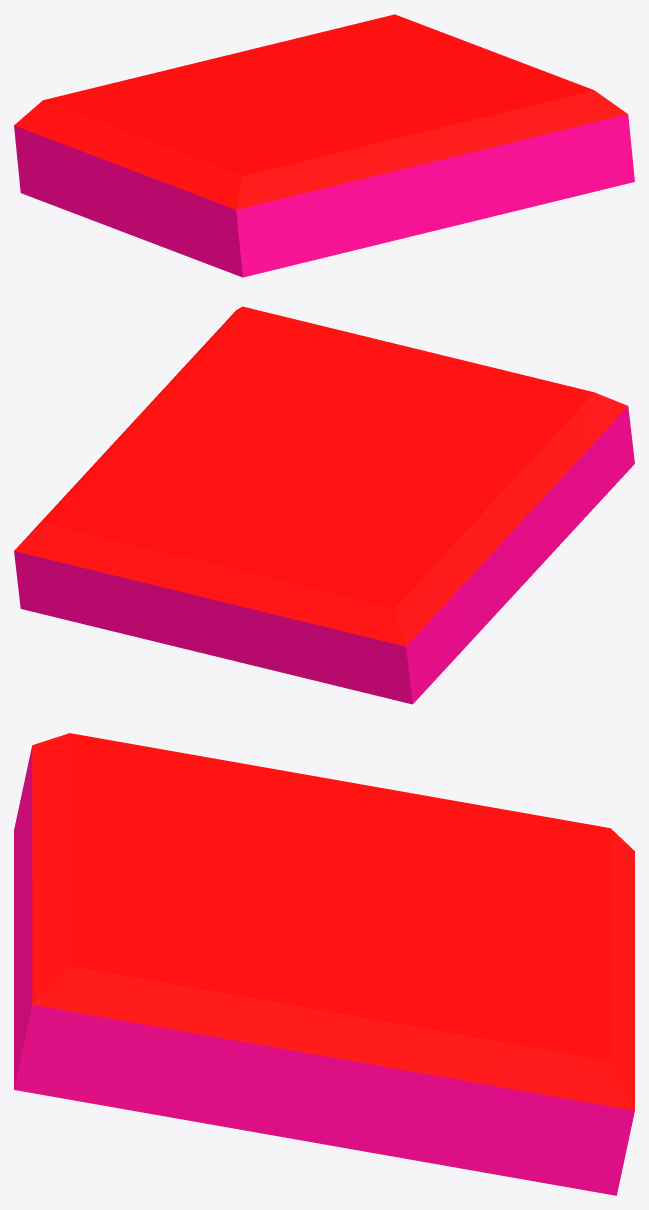
Rendered from ButtonF.glb.
3 renders of one model, top to bottom at view 1: azimuth 30°, elevation 25°; view 2: azimuth 150°, elevation 25°; view 3: azimuth 270°, elevation 25°, orthographic. The views are drawn at different scales.
Visible parts, largest first — view 1: ButtonF; view 2: ButtonF; view 3: ButtonF.
Boxes of the visible parts, left/top/right/bottom form: ButtonF: left=14, top=14, right=634, bottom=277; ButtonF: left=14, top=306, right=634, bottom=704; ButtonF: left=14, top=733, right=634, bottom=1195.
Size of the model in its own units: 0.5336 by 0.2077 by 0.5397.
1 material, 1 textured.
